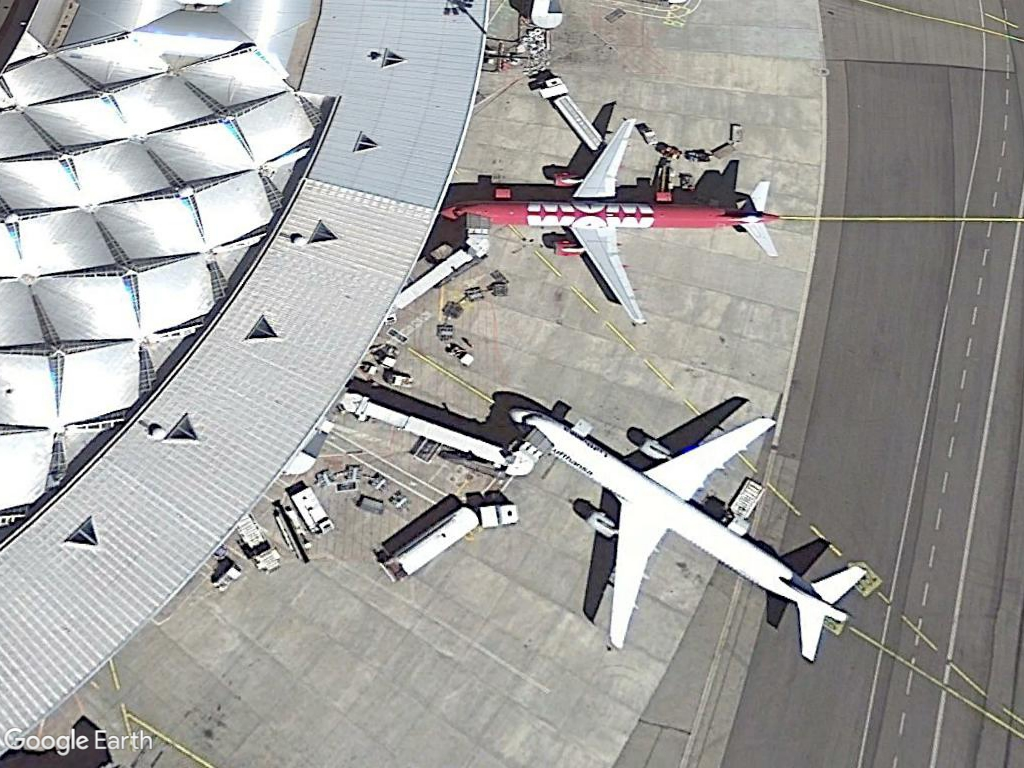airliner: (494, 382, 879, 672), (430, 126, 784, 331)
